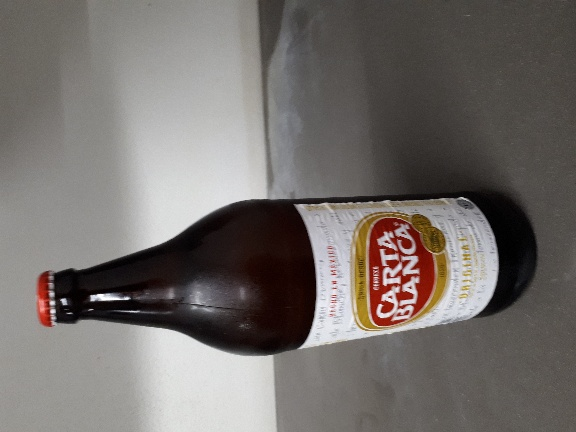CBB: (26, 138, 389, 264)
